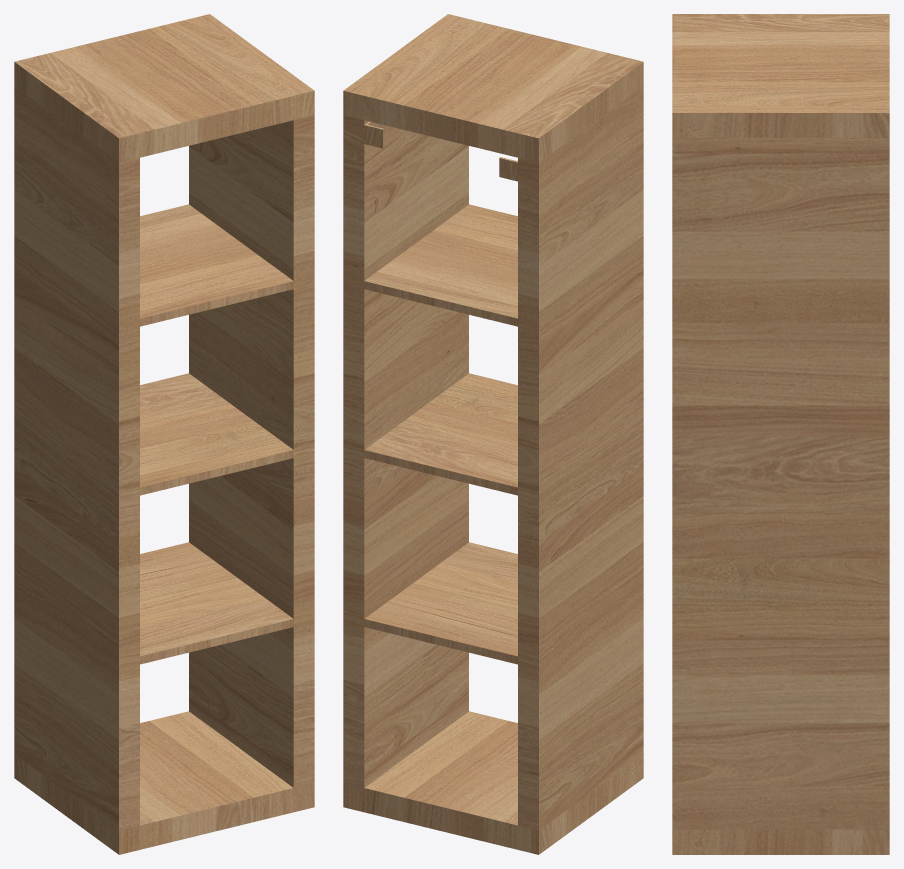
File: Shelf.glb
3 views of the same model, side by side, from view 1: azimuth 30°, elevation 25°; view 2: azimuth 150°, elevation 25°; view 3: azimuth 270°, elevation 25° (orthographic). The views are drawn at different scales.
Parts seen in each view (by area): view 1: IKE170027; view 2: IKE170027; view 3: IKE170027.
Boxes of the visible parts, box(x1,y1,x2,y2) form: IKE170027: box(14, 14, 314, 854); IKE170027: box(343, 14, 643, 854); IKE170027: box(672, 14, 889, 854).
Size of the model in its own units: 0.42 by 1.47 by 0.39.
Materials: 1 (1 with a texture image).
